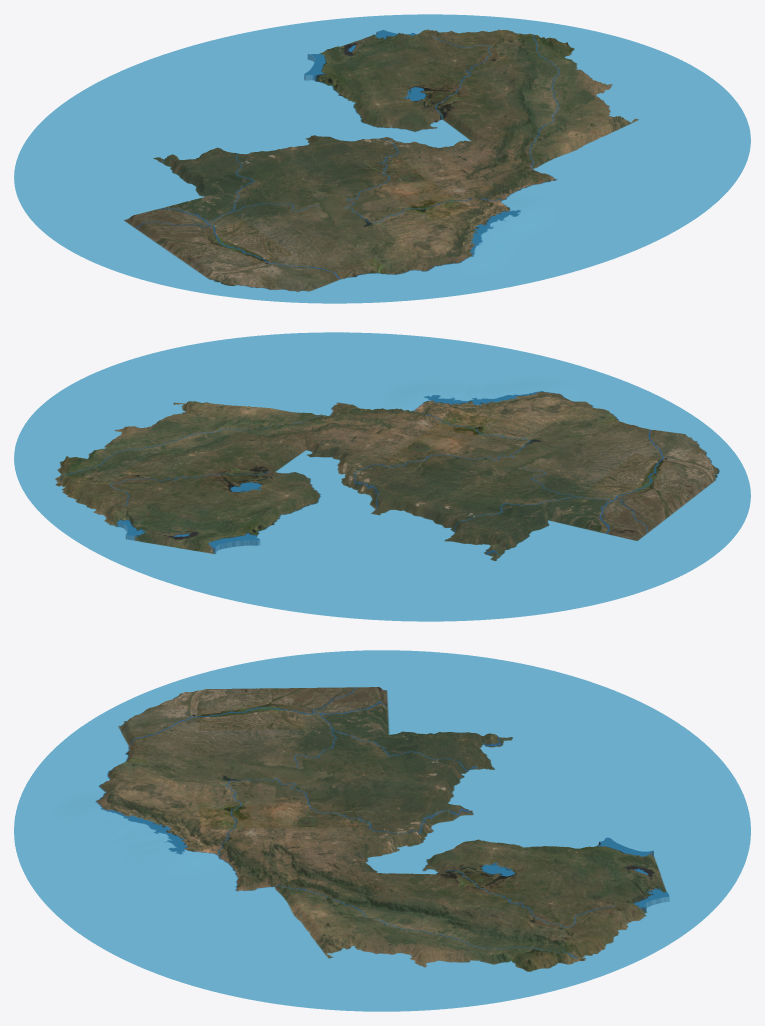
File: ZMB-previa-terrain.glb
3 renders of one model, top to bottom at view 1: azimuth 30°, elevation 25°; view 2: azimuth 150°, elevation 25°; view 3: azimuth 270°, elevation 25°, orthographic. The views are drawn at different scales.
Visible parts, largest first — view 1: Zâmbia; view 2: Zâmbia; view 3: Zâmbia.
Part boxes in pixels (x1,y1,x2,y2): Zâmbia: [14, 14, 750, 303]; Zâmbia: [14, 332, 750, 621]; Zâmbia: [14, 650, 750, 1011].
Size of the model in its own units: 2.27 by 0.0339 by 1.95.
1 material, 1 textured.
